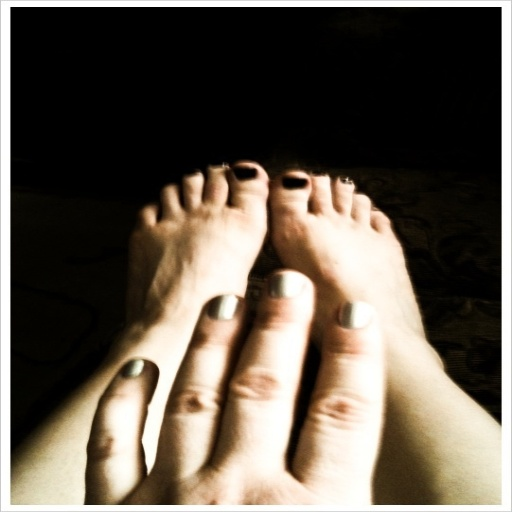hand: (85, 265, 386, 511)
